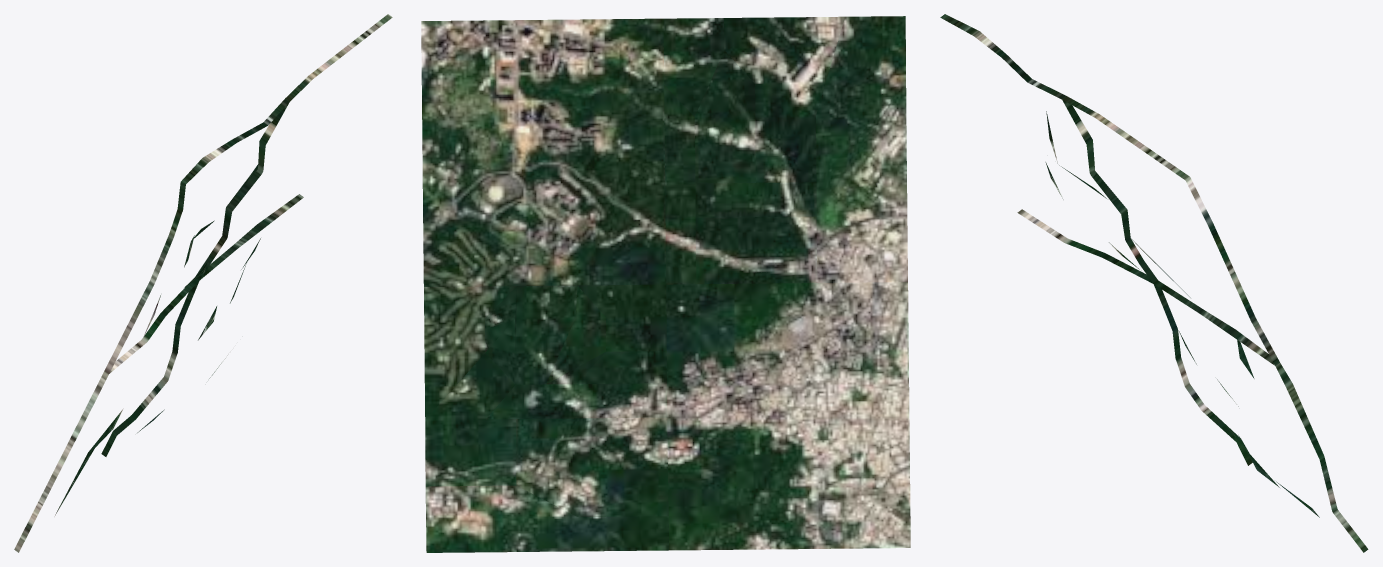
3 views of the same model, side by side, from view 1: azimuth 30°, elevation 25°; view 2: azimuth 150°, elevation 25°; view 3: azimuth 270°, elevation 25° (orthographic). The views are drawn at different scales.
Size of the model in its own units: 4784 by 4544 by 4129.
Materials: 1 (1 with a texture image).
